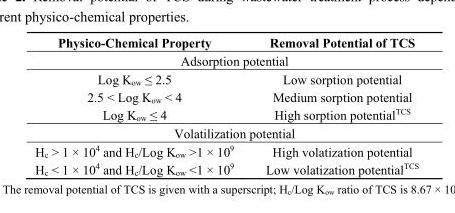table: (34, 34, 418, 176)
table column: (34, 34, 249, 176), (249, 34, 418, 176)
table column header: (34, 34, 418, 51)
table projected row header: (34, 51, 418, 69), (34, 123, 418, 141)
table row: (34, 51, 418, 69), (34, 69, 418, 87), (34, 87, 418, 105), (34, 105, 418, 123), (34, 123, 418, 141), (34, 141, 418, 159), (34, 34, 418, 51), (34, 159, 418, 176)
